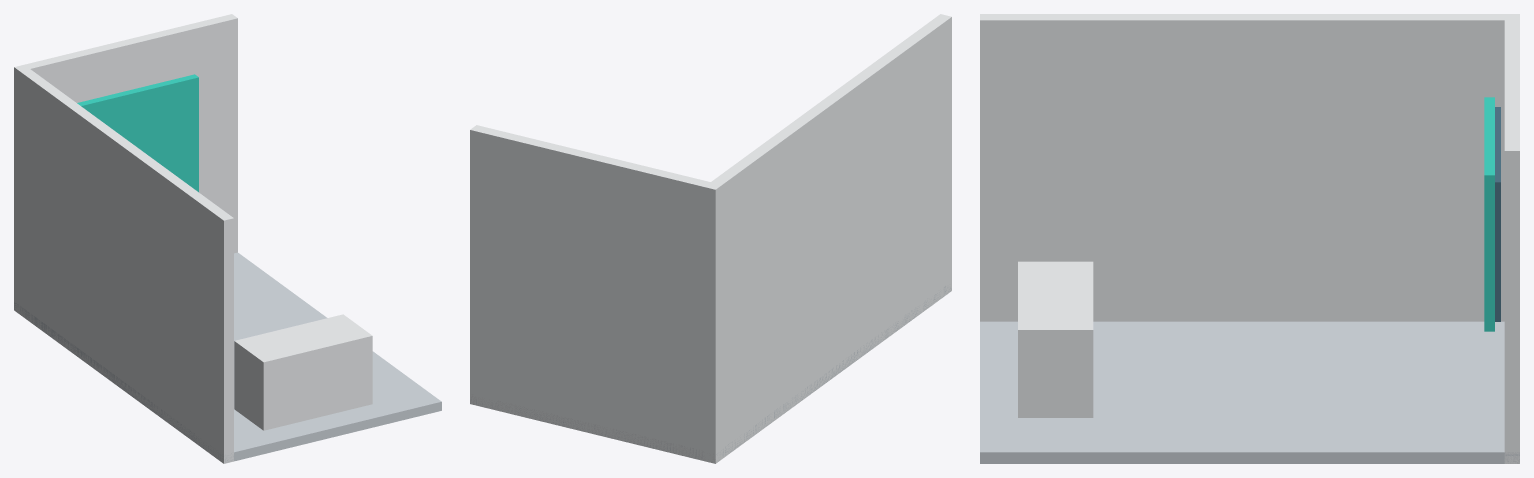
3 views of the same model, side by side, from view 1: azimuth 30°, elevation 25°; view 2: azimuth 150°, elevation 25°; view 3: azimuth 270°, elevation 25° (orthographic). The views are drawn at different scales.
Parts seen in each view (by area): view 1: Exhibition Booth Concept; view 2: Exhibition Booth Concept; view 3: Exhibition Booth Concept.
Boxes of the visible parts, left/top/right/bottom form: Exhibition Booth Concept: left=14, top=14, right=441, bottom=463; Exhibition Booth Concept: left=470, top=14, right=951, bottom=463; Exhibition Booth Concept: left=980, top=14, right=1519, bottom=463.
Size of the model in its own units: 3 by 3.2 by 5.
